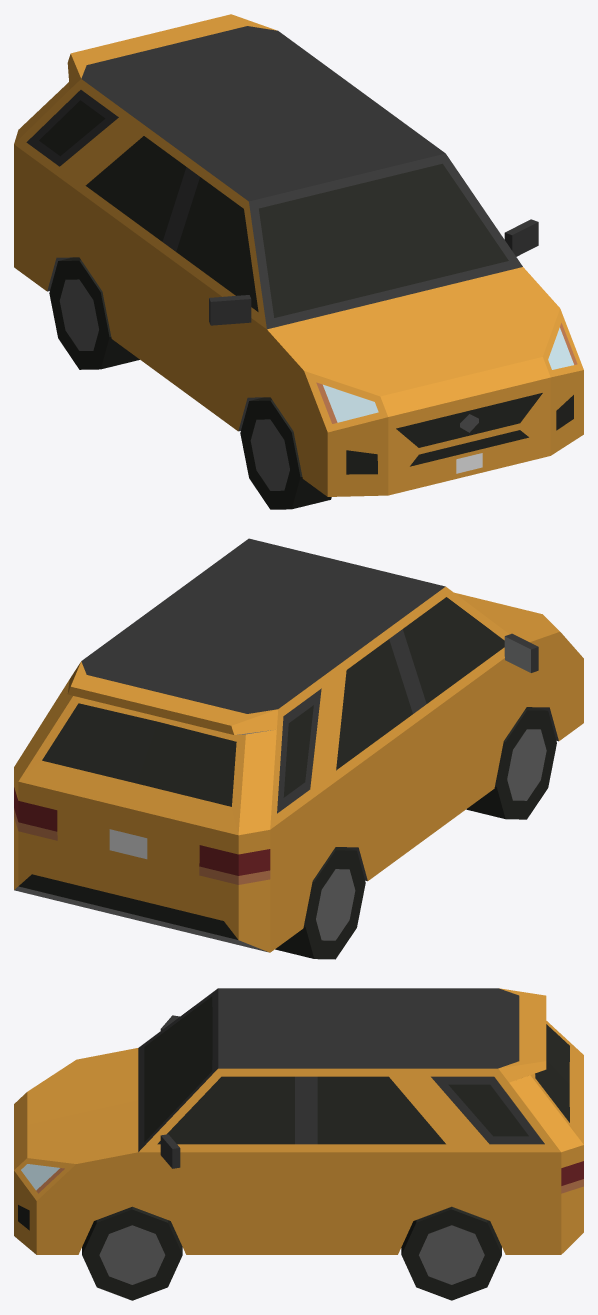
The model's file is Veh_SUV_01_Yellow.obj.
3 renders of one model, top to bottom at view 1: azimuth 30°, elevation 25°; view 2: azimuth 150°, elevation 25°; view 3: azimuth 270°, elevation 25°, orthographic. The views are drawn at different scales.
Bounding box in the file's own units: 1.33 × 1.02 × 2.4.
